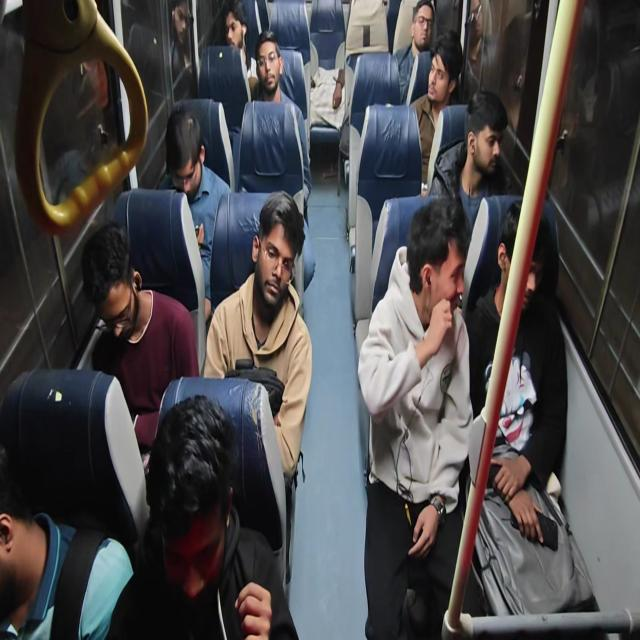person: (125, 414, 250, 640), (378, 243, 469, 442), (0, 414, 62, 639), (490, 235, 560, 432), (225, 190, 312, 314), (143, 94, 212, 226), (313, 52, 387, 170), (68, 234, 149, 338), (250, 35, 314, 166), (477, 118, 530, 261), (428, 45, 472, 128), (221, 20, 247, 71), (403, 1, 428, 47)
